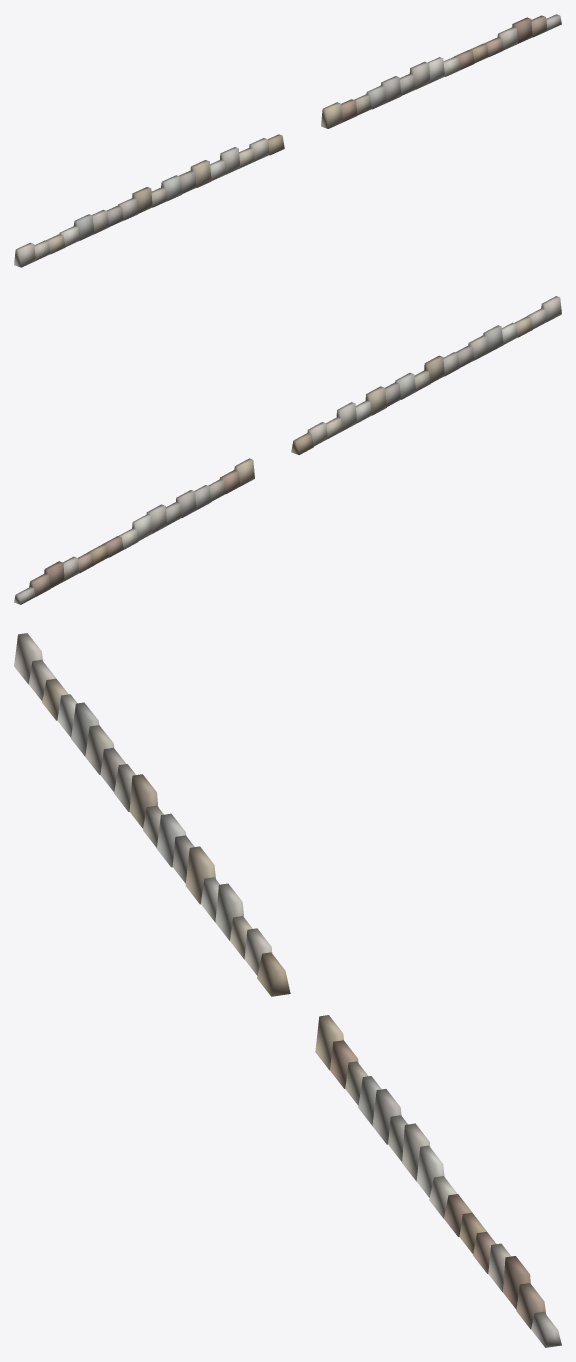
Rendered from farm_15_8_collision.glb.
3 views of the same model, one above another, from view 1: azimuth 30°, elevation 25°; view 2: azimuth 210°, elevation 25°; view 3: azimuth 270°, elevation 25° (orthographic). The views are drawn at different scales.
Visible parts, largest first — view 1: geometry_0; view 2: geometry_0; view 3: geometry_0.
Boxes of the visible parts, <box> form: geometry_0: <box>14,14,561,267</box>; geometry_0: <box>14,296,561,604</box>; geometry_0: <box>14,633,561,1347</box>.
Bounding box in the file's own units: 54.82 × 3.08 × 19.88.
